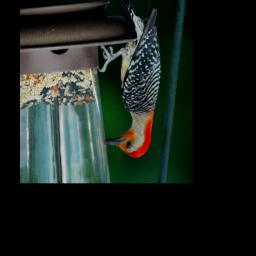Woodpecker: (98, 0, 164, 158)
